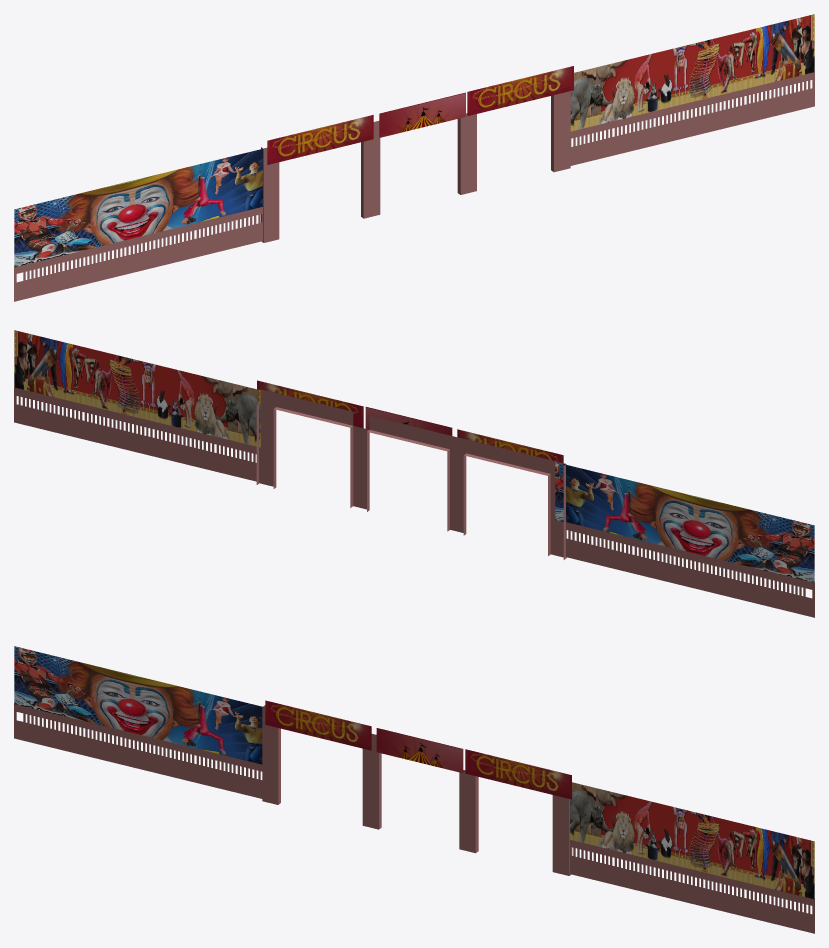
File: c gate fbx cuts.fbx
3 views of the same model, one above another, from view 1: azimuth 30°, elevation 25°; view 2: azimuth 150°, elevation 25°; view 3: azimuth 330°, elevation 25° (orthographic).
Visible parts, largest first — view 1: polySurface38, polySurface37, polySurface36, polySurface35, polySurface44, polySurface43, polySurface41; view 2: polySurface38, polySurface37, polySurface36, polySurface35, polySurface43, polySurface44, polySurface41; view 3: polySurface38, polySurface37, polySurface36, polySurface35, polySurface44, polySurface43, polySurface41.
Part boxes in pixels (box(x1,y1,x2,y2)): polySurface38: box(14, 71, 814, 301); polySurface37: box(14, 148, 266, 267); polySurface36: box(570, 14, 814, 131); polySurface35: box(261, 91, 570, 242); polySurface44: box(267, 115, 373, 164); polySurface43: box(467, 66, 573, 116); polySurface41: box(379, 92, 465, 137); polySurface38: box(14, 387, 814, 617); polySurface37: box(555, 462, 814, 582); polySurface36: box(14, 330, 260, 447); polySurface35: box(256, 389, 566, 559); polySurface43: box(257, 380, 363, 428); polySurface44: box(457, 429, 563, 462); polySurface41: box(365, 407, 452, 435); polySurface38: box(14, 703, 814, 933); polySurface37: box(14, 646, 264, 764); polySurface36: box(570, 782, 814, 899); polySurface35: box(262, 705, 572, 875); polySurface44: box(265, 700, 371, 750); polySurface43: box(465, 749, 571, 799); polySurface41: box(376, 728, 463, 773).
Size of the model in its own units: 39.92 by 4.85 by 0.2962.
